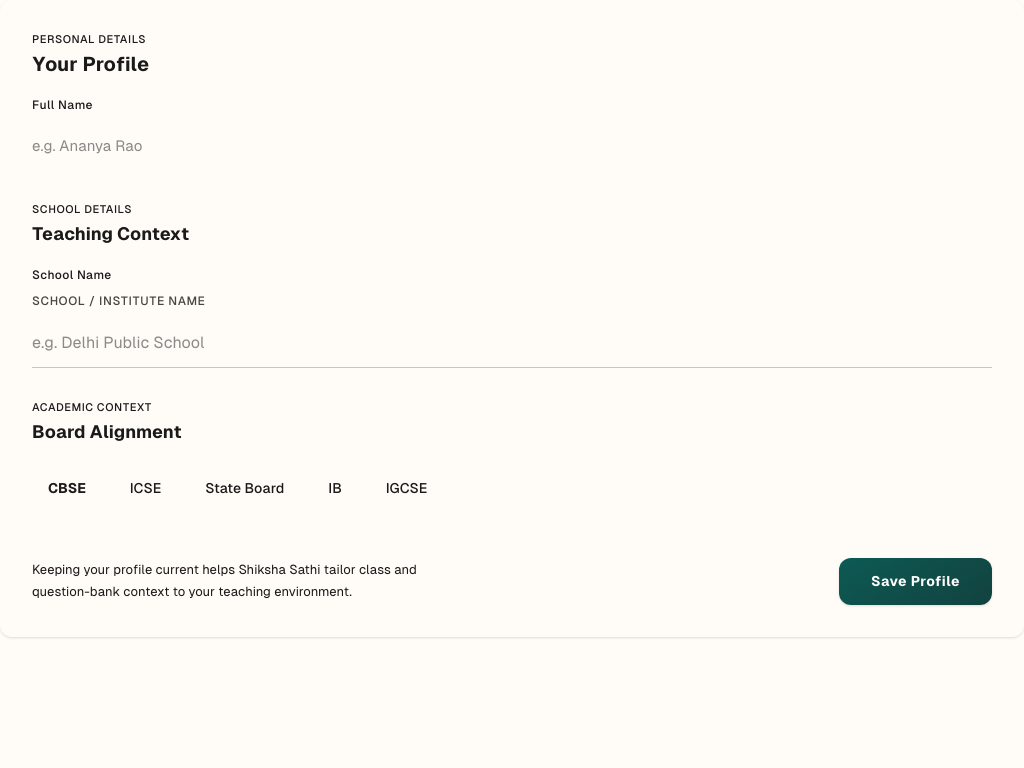
ProfileForm › shows error message when updateProfile fails
Click the button "Save Profile" at {"x": 916, "y": 582}, box x1=839 y1=558 x2=992 y2=605
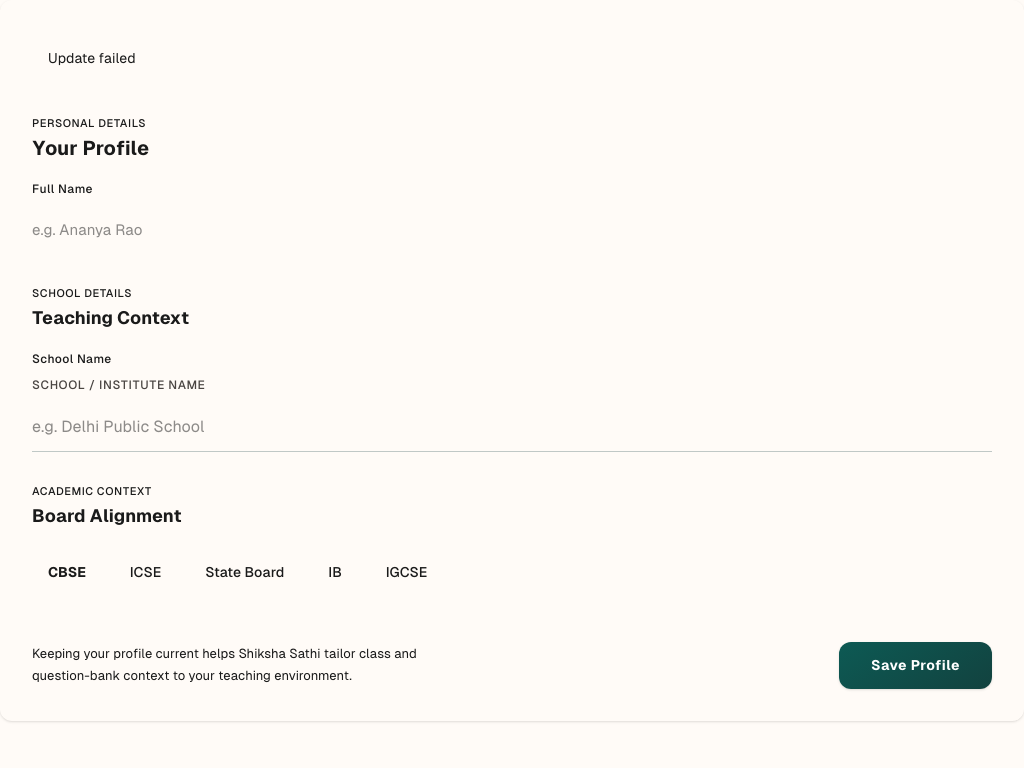
Expected: the text "Update failed" is shown, x1=48 y1=50 x2=136 y2=66
